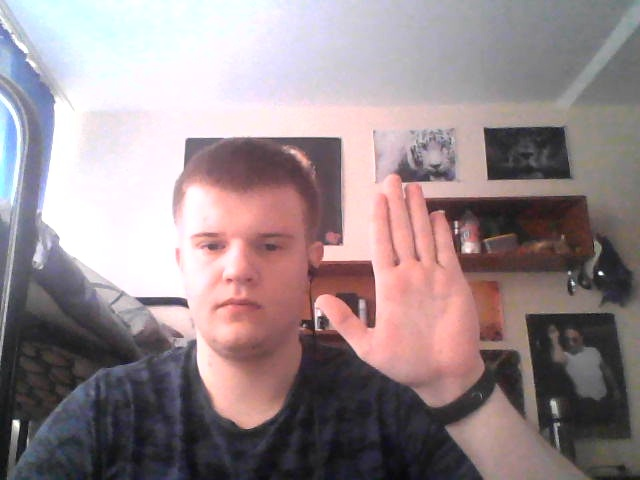hello: (312, 172, 483, 387)
